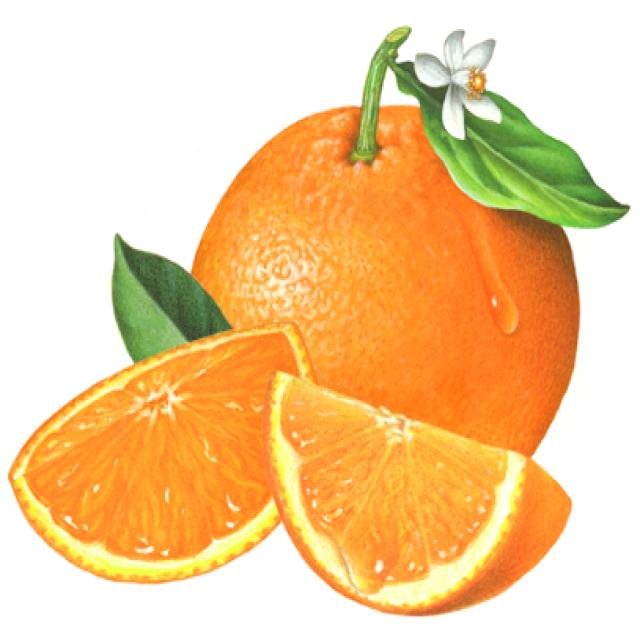orange: (8, 82, 594, 622)
